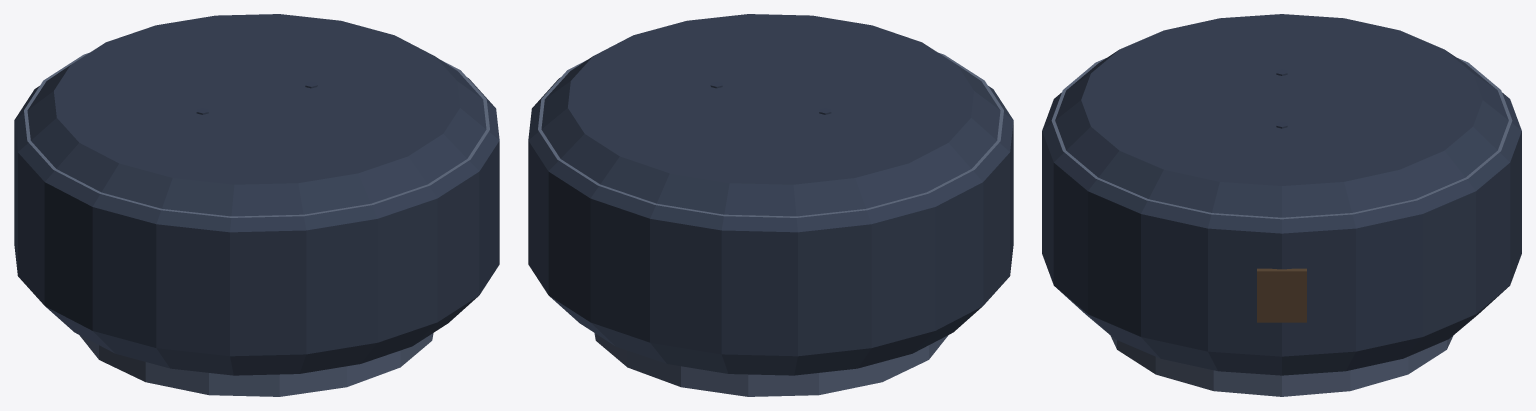
Rendered from res_ottoman.glb.
The picture shows the model from 3 angles, left to right: view 1: azimuth 30°, elevation 25°; view 2: azimuth 150°, elevation 25°; view 3: azimuth 270°, elevation 25°; orthographic projection.
Parts seen in each view (by area): view 1: rounded_upholstery, recessed_ottoman_foot, upholstery_piping; view 2: rounded_upholstery, recessed_ottoman_foot, upholstery_piping; view 3: rounded_upholstery, recessed_ottoman_foot, leather_carry_tab, upholstery_piping.
Part boxes in pixels (x1,y1,x2,y2): rounded_upholstery: [14, 14, 499, 375]; recessed_ottoman_foot: [79, 333, 433, 396]; upholstery_piping: [24, 52, 489, 217]; rounded_upholstery: [528, 14, 1013, 375]; recessed_ottoman_foot: [594, 333, 948, 396]; upholstery_piping: [538, 52, 1003, 217]; rounded_upholstery: [1042, 14, 1521, 375]; recessed_ottoman_foot: [1110, 335, 1453, 396]; leather_carry_tab: [1257, 268, 1306, 322]; upholstery_piping: [1051, 58, 1512, 219].
Bounding box in the file's own units: 0.88 × 0.44 × 0.86.
